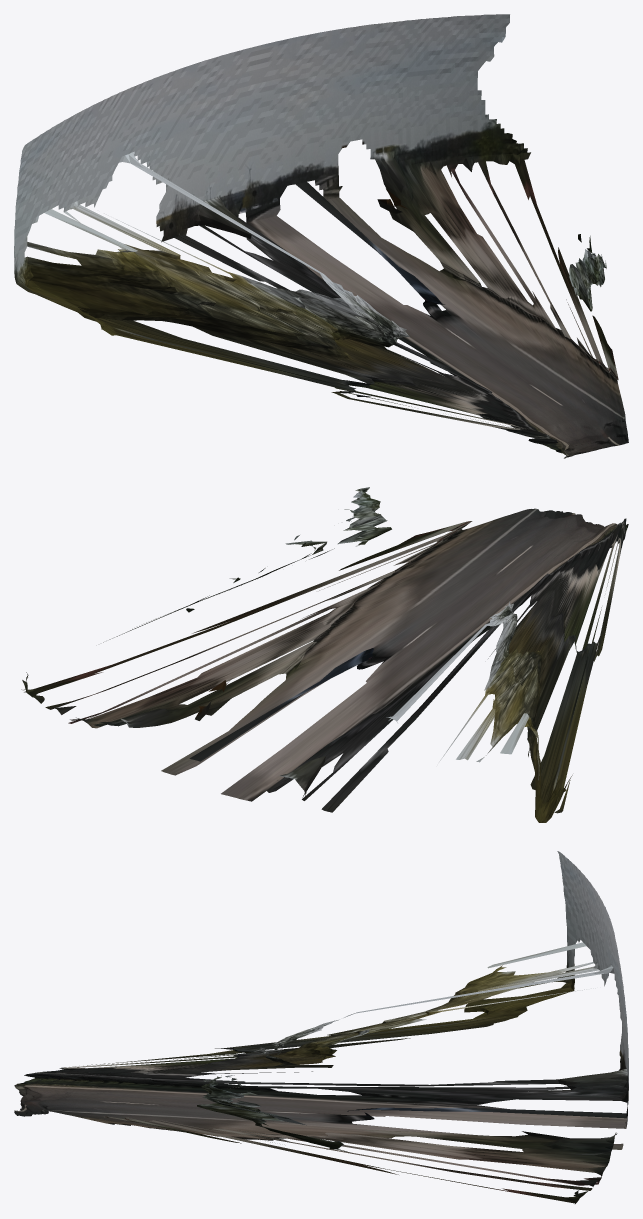
3 renders of one model, top to bottom at view 1: azimuth 30°, elevation 25°; view 2: azimuth 150°, elevation 25°; view 3: azimuth 270°, elevation 25°, orthographic. The views are drawn at different scales.
Visible parts, largest first — view 1: defaultobject; view 2: defaultobject; view 3: defaultobject.
Part boxes in pixels (x1,y1,x2,y2): defaultobject: (14,14,628,458); defaultobject: (21,487,628,822); defaultobject: (14,851,628,1203).
Bounding box in the file's own units: 39.11 × 12.86 × 44.53.
1 material, 1 textured.
